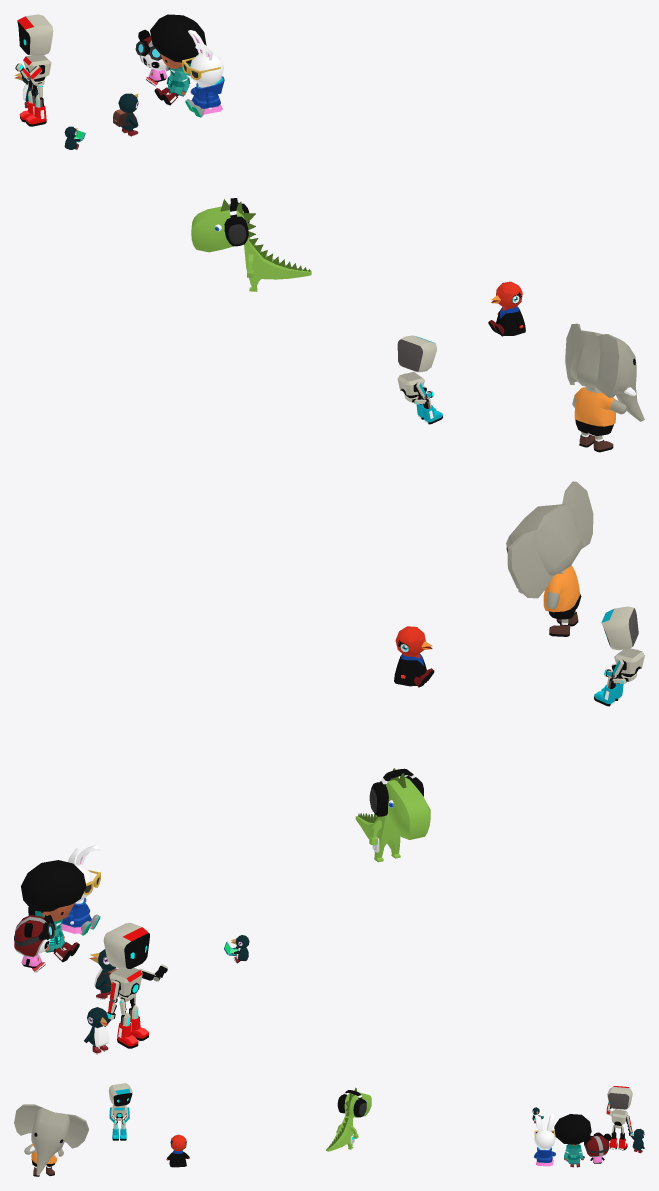
The model's file is characters.glb.
3 renders of one model, top to bottom at view 1: azimuth 30°, elevation 25°; view 2: azimuth 150°, elevation 25°; view 3: azimuth 270°, elevation 25°, orthographic. The views are drawn at different scales.
Visible parts, largest first — view 1: Bob Mesh, Pod Kun Mesh, Char One Mesh, Adam Mesh, Adam Mesh.001, Bunny Mesh, Cardinal Mesh, Prime-Minister Yoghurty Mesh, Penguin.002; view 2: Bob Mesh, Pod Kun Mesh, Adam Mesh, Char One Mesh, Adam Mesh.001, Cardinal Mesh, Prime-Minister Yoghurty Mesh, Bunny Mesh, Penguin.003; view 3: Bob Mesh, Pod Kun Mesh, Char One Mesh, Adam Mesh, Adam Mesh.001, Bunny Mesh, Prime-Minister Yoghurty Mesh, Cardinal Mesh, Penguin.003.
Boxes of the visible parts, left/top/right/bottom form: Bob Mesh: left=565, top=323, right=644, bottom=452; Pod Kun Mesh: left=191, top=198, right=311, bottom=291; Char One Mesh: left=150, top=14, right=206, bottom=105; Adam Mesh: left=15, top=14, right=53, bottom=126; Adam Mesh.001: left=397, top=335, right=442, bottom=424; Bunny Mesh: left=182, top=30, right=223, bottom=117; Cardinal Mesh: left=488, top=281, right=525, bottom=336; Prime-Minister Yoghurty Mesh: left=135, top=29, right=169, bottom=86; Penguin.002: left=118, top=93, right=139, bottom=136; Bob Mesh: left=506, top=481, right=593, bottom=636; Pod Kun Mesh: left=355, top=768, right=430, bottom=862; Adam Mesh: left=103, top=922, right=167, bottom=1048; Char One Mesh: left=21, top=860, right=86, bottom=962; Adam Mesh.001: left=594, top=606, right=644, bottom=706; Cardinal Mesh: left=394, top=626, right=434, bottom=687; Prime-Minister Yoghurty Mesh: left=14, top=907, right=55, bottom=972; Bunny Mesh: left=61, top=844, right=100, bottom=935; Penguin.003: left=84, top=1007, right=110, bottom=1054; Bob Mesh: left=14, top=1104, right=88, bottom=1176; Pod Kun Mesh: left=326, top=1087, right=371, bottom=1151; Char One Mesh: left=554, top=1114, right=591, bottom=1164; Adam Mesh: left=606, top=1086, right=632, bottom=1150; Adam Mesh.001: left=108, top=1083, right=132, bottom=1140; Bunny Mesh: left=534, top=1114, right=555, bottom=1166; Prime-Minister Yoghurty Mesh: left=584, top=1132, right=611, bottom=1163; Cardinal Mesh: left=166, top=1134, right=189, bottom=1167; Penguin.003: left=630, top=1128, right=644, bottom=1153.
Size of the model in its own units: 4.75 by 2.9 by 22.86.
Materials: 5 (5 with a texture image).
